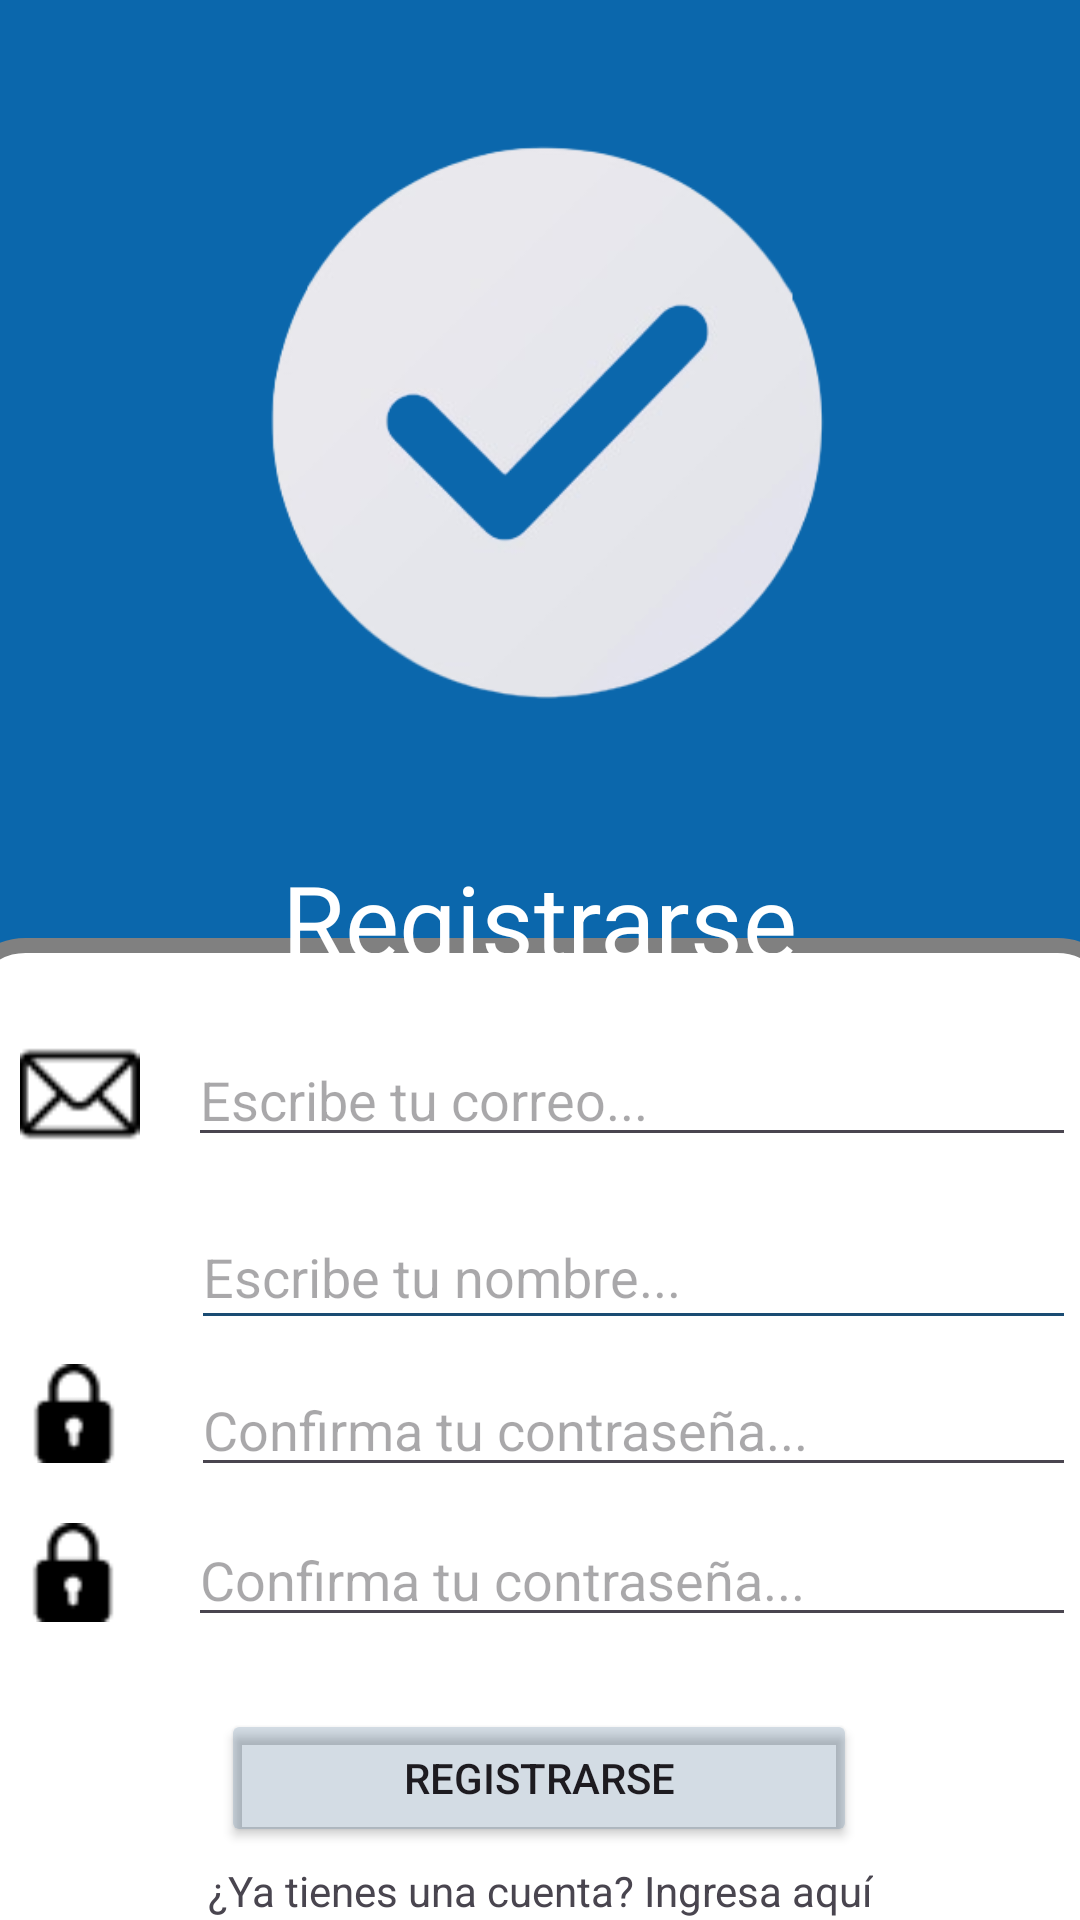

Where to tap for icons on this 1080px x 1920px app screen, as point (x, y):
correro: point (80, 1094)
